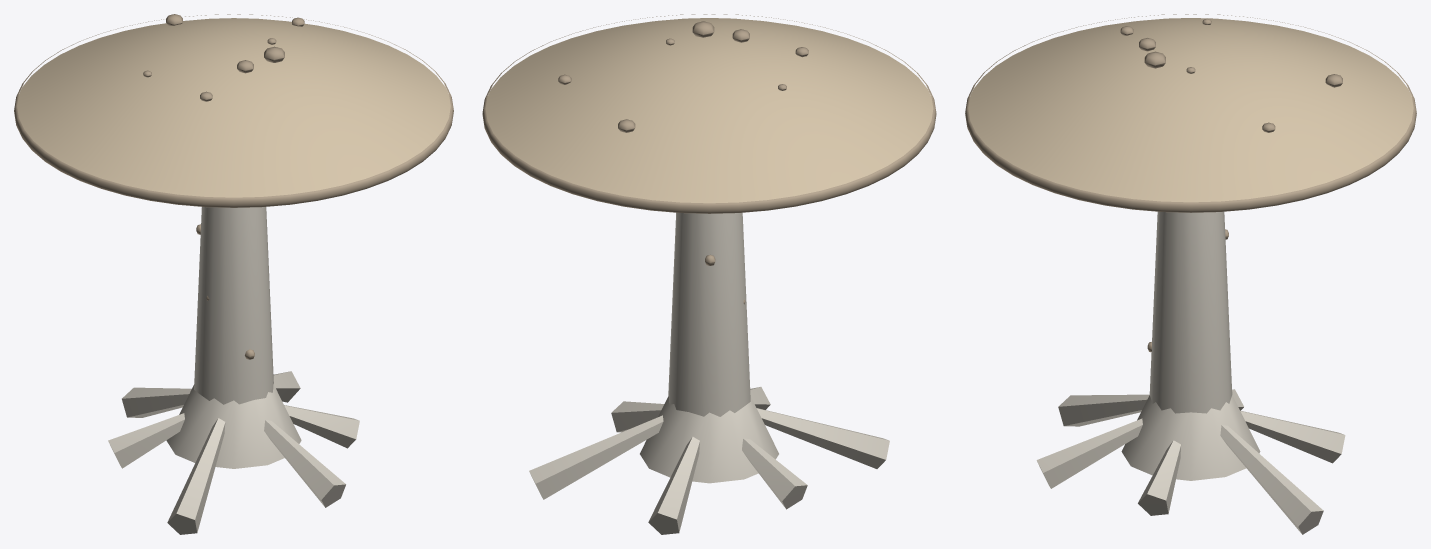
The model's file is mushroom-giant.glb.
3 views of the same model, side by side, from view 1: azimuth 30°, elevation 25°; view 2: azimuth 150°, elevation 25°; view 3: azimuth 270°, elevation 25° (orthographic). The views are drawn at different scales.
Visible parts, largest first — view 1: mushroom-giant-cap, mushroom-giant; view 2: mushroom-giant-cap, mushroom-giant; view 3: mushroom-giant-cap, mushroom-giant.
Part boxes in pixels (<box>): mushroom-giant-cap: <box>14,14,453,207</box>; mushroom-giant: <box>108,207,359,534</box>; mushroom-giant-cap: <box>482,14,936,213</box>; mushroom-giant: <box>529,212,889,534</box>; mushroom-giant-cap: <box>965,14,1416,212</box>; mushroom-giant: <box>1036,211,1345,534</box>.
Bounding box in the file's own units: 6.83 × 7.32 × 6.83.
